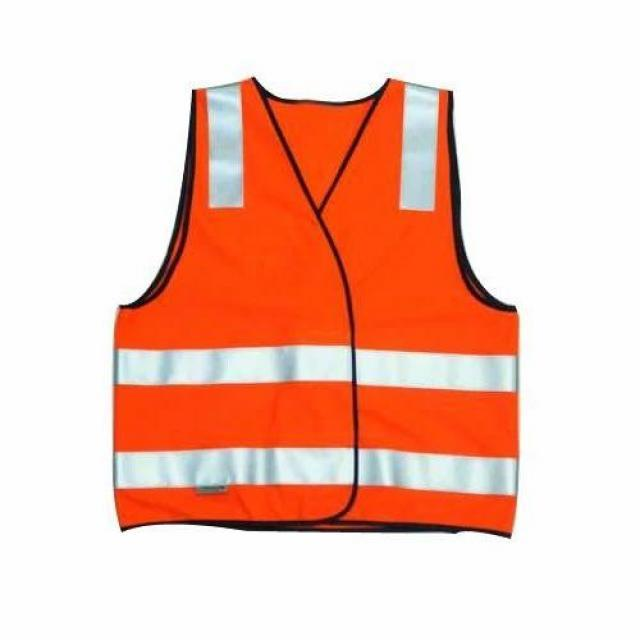construction-vest: (102, 75, 523, 536)
